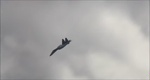maybay_muctieu: (49, 37, 71, 59)
